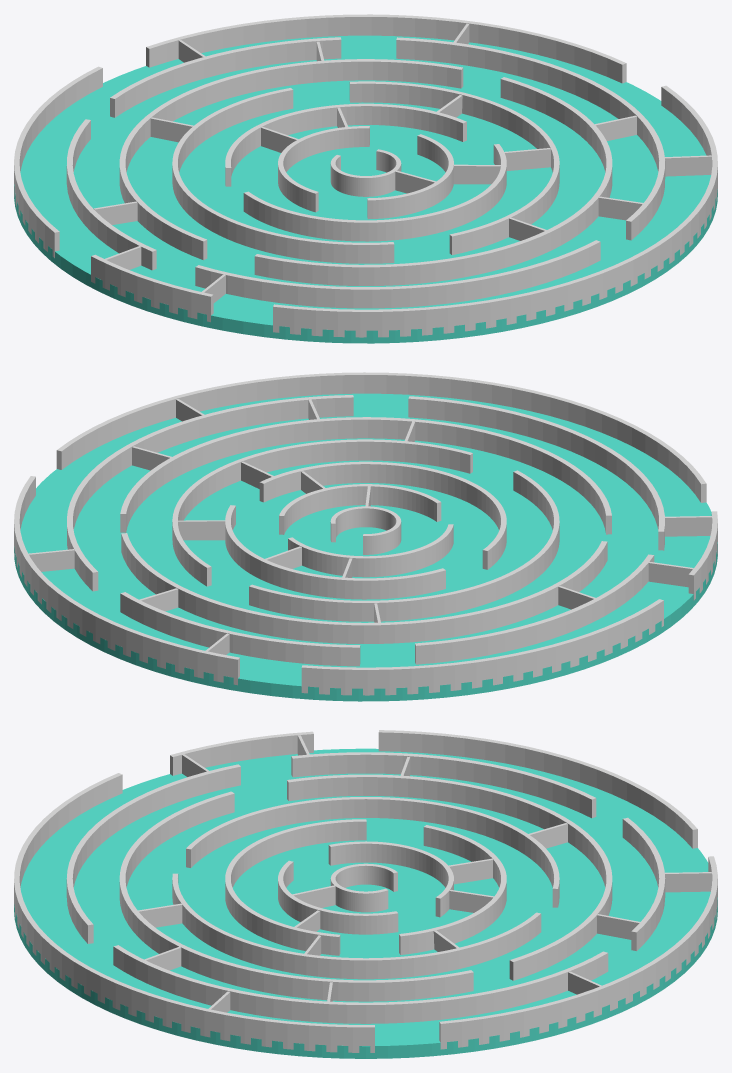
Rendered from maze2.fbx.
3 views of the same model, one above another, from view 1: azimuth 30°, elevation 25°; view 2: azimuth 150°, elevation 25°; view 3: azimuth 270°, elevation 25° (orthographic).
Visible parts, largest first — view 1: Cylinder.001, Cylinder.002, Cylinder.003, Cylinder.004, Cylinder.005, Cylinder.006, Cylinder.007, Cylinder.008, Cube.016, Cube.005, Cube.001, Cube.014 (+7 smaller); view 2: Cylinder.001, Cylinder.002, Cylinder.003, Cylinder.004, Cylinder.005, Cylinder.006, Cylinder.007, Cylinder.008, Cube.004, Cube.009, Cube.008, Cube.011 (+3 smaller); view 3: Cylinder.001, Cylinder.002, Cylinder.003, Cylinder.004, Cylinder.005, Cylinder.006, Cylinder.007, Cylinder.008, Cube.012, Cube.002, Cube.007, Cube.010 (+4 smaller).
Boxes of the visible parts, x1,y1,x2,y2 form: Cylinder.001: (14,35,717,343); Cylinder.002: (14,14,717,337); Cylinder.003: (66,37,665,308); Cylinder.004: (119,59,612,285); Cylinder.005: (172,81,559,263); Cylinder.006: (225,103,506,241); Cylinder.007: (278,126,453,219); Cylinder.008: (330,149,401,196); Cube.016: (664,155,711,176); Cube.005: (504,148,550,170); Cube.001: (453,164,500,184); Cube.014: (598,196,643,220); Cylinder.001: (14,393,717,701); Cylinder.002: (14,372,717,695); Cylinder.003: (67,395,664,666); Cylinder.004: (120,417,611,643); Cylinder.005: (172,439,559,621); Cylinder.006: (225,461,506,599); Cylinder.007: (279,484,453,577); Cylinder.008: (330,506,401,554); Cube.004: (178,520,225,540); Cube.009: (665,516,711,536); Cube.008: (648,561,693,587); Cube.011: (28,549,74,571); Cylinder.001: (14,748,717,1058); Cylinder.002: (14,730,717,1052); Cylinder.003: (66,752,665,1023); Cylinder.004: (119,774,612,1001); Cylinder.005: (172,797,559,979); Cylinder.006: (225,819,506,955); Cylinder.007: (278,841,453,934); Cylinder.008: (330,863,397,912); Cube.012: (664,872,711,892); Cube.002: (449,858,492,884); Cube.007: (138,903,182,927); Cube.010: (597,914,639,939).
Size of the model in its own units: 500 by 24.72 by 500.
